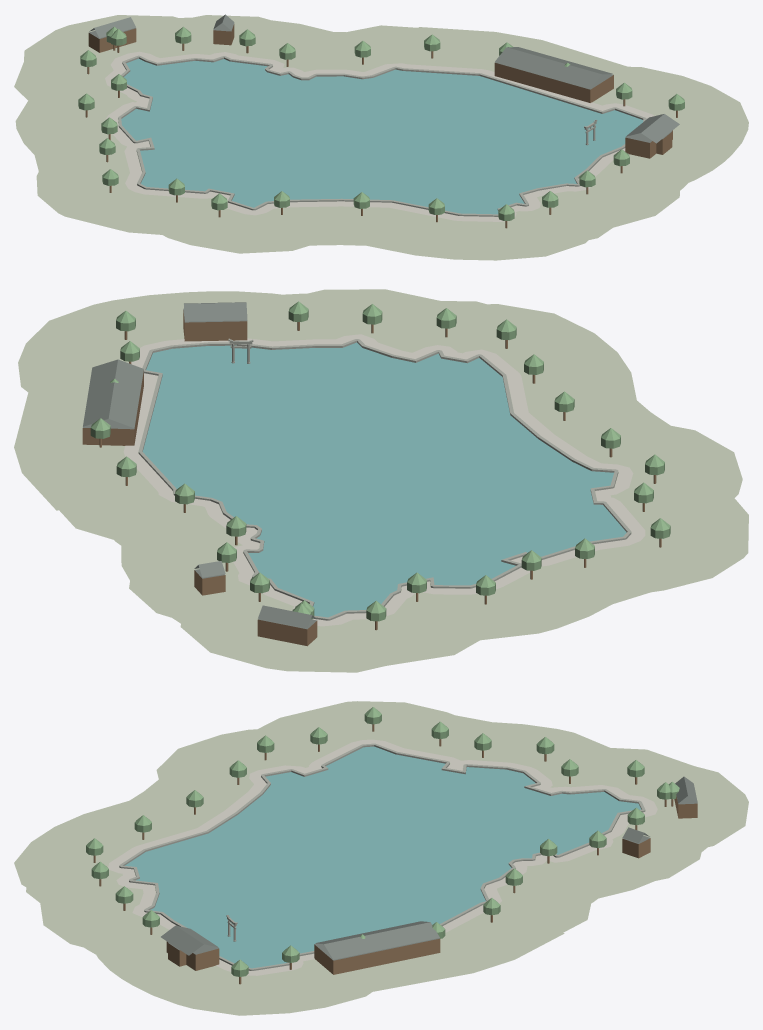
3 renders of one model, top to bottom at view 1: azimuth 30°, elevation 25°; view 2: azimuth 150°, elevation 25°; view 3: azimuth 270°, elevation 25°, orthographic. The views are drawn at different scales.
Parts seen in each view (by area): view 1: lake-kinrin; view 2: lake-kinrin; view 3: lake-kinrin.
Part boxes in pixels (x1,y1,x2,y2): lake-kinrin: (14,14,748,260); lake-kinrin: (14,289,748,672); lake-kinrin: (14,701,748,1015).
Bounding box in the file's own units: 164 × 6 × 162.
